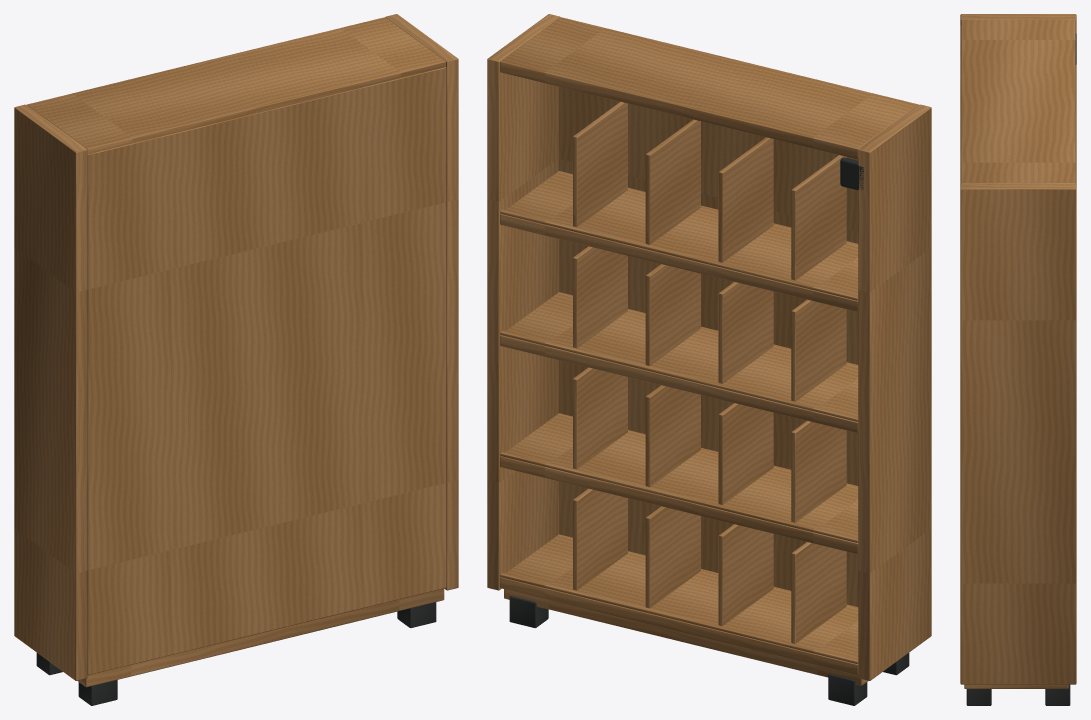
Rendered from shelf_astra.glb.
3 renders of one model, left to right at view 1: azimuth 30°, elevation 25°; view 2: azimuth 150°, elevation 25°; view 3: azimuth 270°, elevation 25°, orthographic. The views are drawn at different scales.
Visible parts, largest first — view 1: SM_shelf_astra; view 2: SM_shelf_astra; view 3: SM_shelf_astra.
Part boxes in pixels (box(x1,y1,x2,y2)): SM_shelf_astra: box(14, 14, 458, 705); SM_shelf_astra: box(487, 14, 931, 705); SM_shelf_astra: box(960, 14, 1076, 705).
Size of the model in its own units: 1 by 1.4 by 0.28.
Materials: 2 (1 with a texture image).
